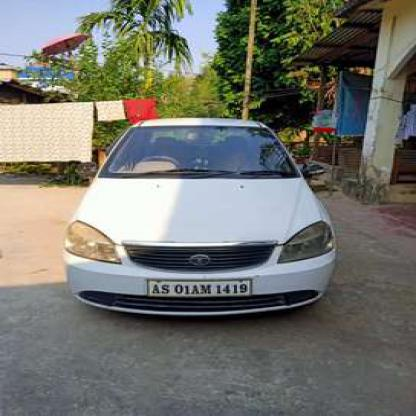license_plate: (147, 276, 249, 295)
